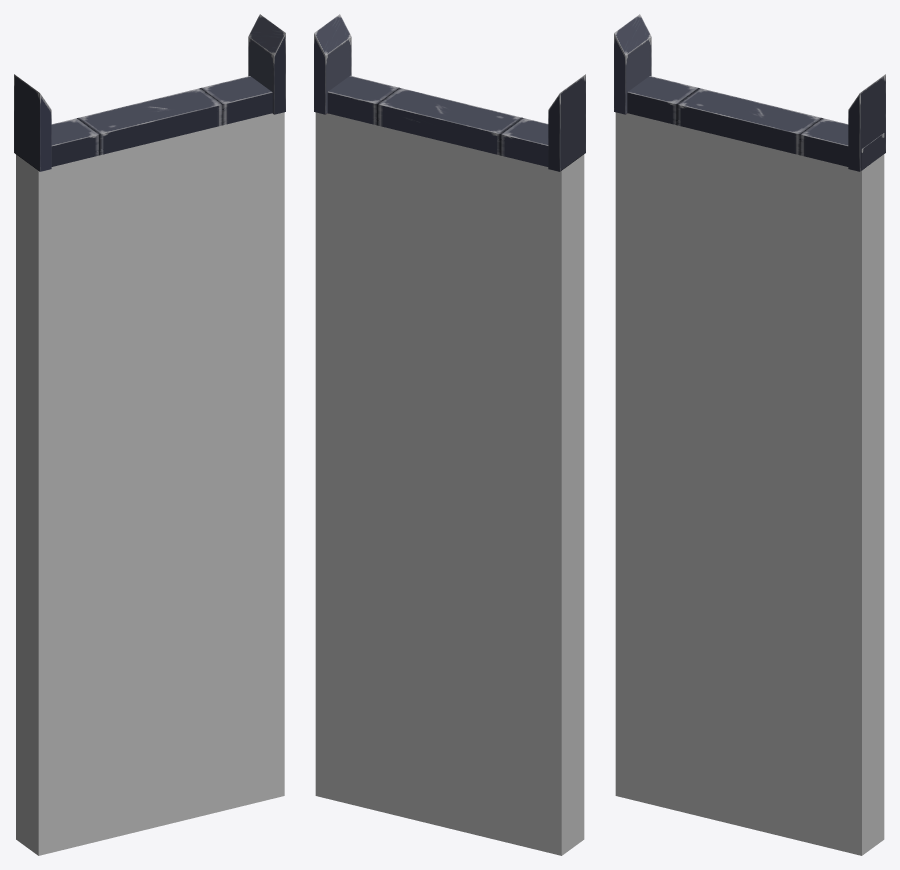
File: edge_overloop.FBX
3 views of the same model, side by side, from view 1: azimuth 30°, elevation 25°; view 2: azimuth 150°, elevation 25°; view 3: azimuth 330°, elevation 25° (orthographic).
Parts seen in each view (by area): view 1: side_2edgy5me_overloop, side_rand_overloop; view 2: side_2edgy5me_overloop, side_rand_overloop; view 3: side_2edgy5me_overloop, side_rand_overloop.
Part boxes in pixels (<box>): side_2edgy5me_overloop: <box>16,112,284,855</box>; side_rand_overloop: <box>14,14,285,171</box>; side_2edgy5me_overloop: <box>315,112,584,855</box>; side_rand_overloop: <box>314,14,585,171</box>; side_2edgy5me_overloop: <box>615,112,884,855</box>; side_rand_overloop: <box>614,14,885,171</box>.
Bounding box in the file's own units: 50.1 × 149 × 9.16.
